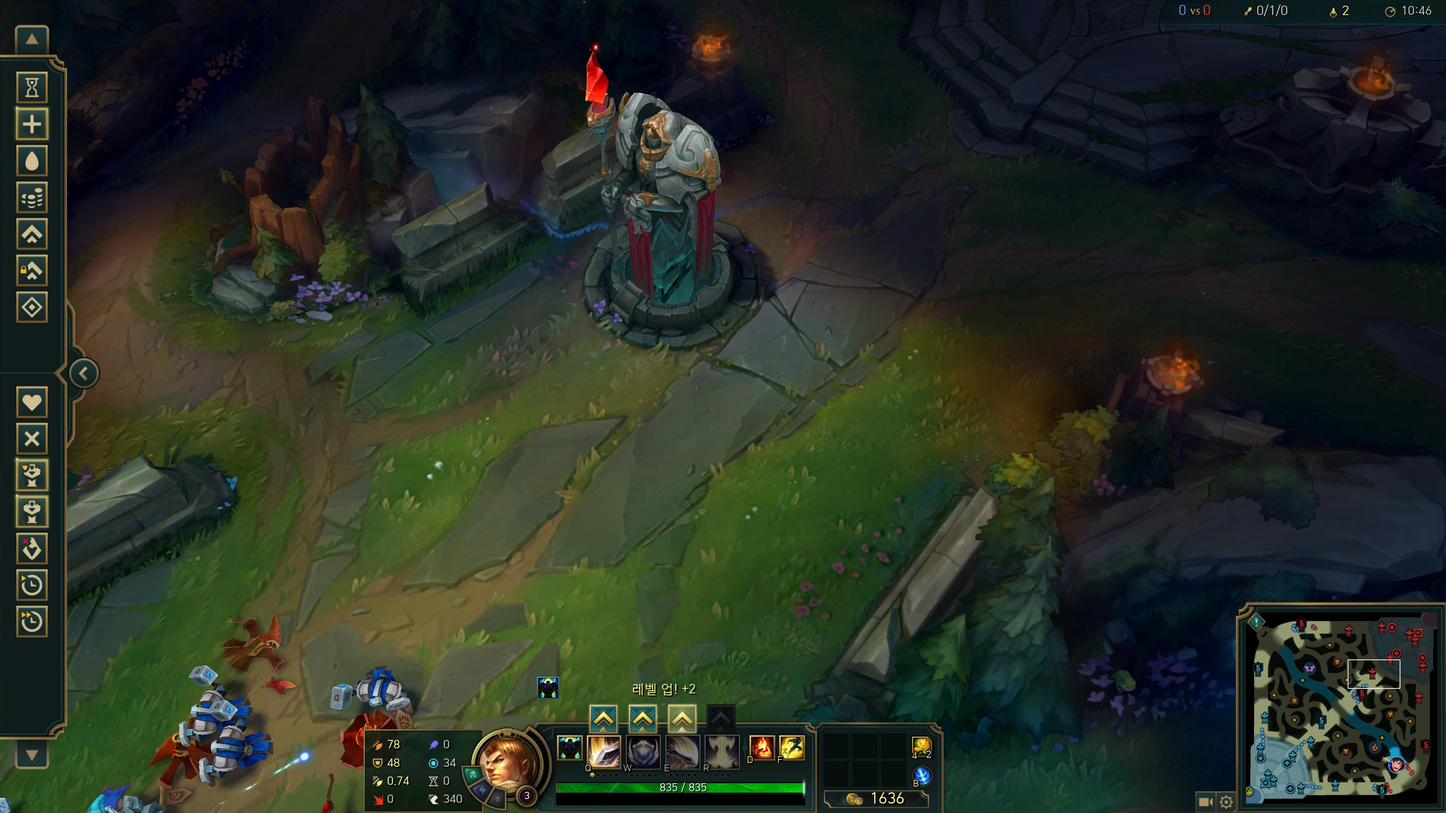ally-melee-minion: (177, 665, 249, 745), (197, 723, 270, 785), (329, 667, 410, 711)
enemy-tower: (583, 34, 759, 346)
